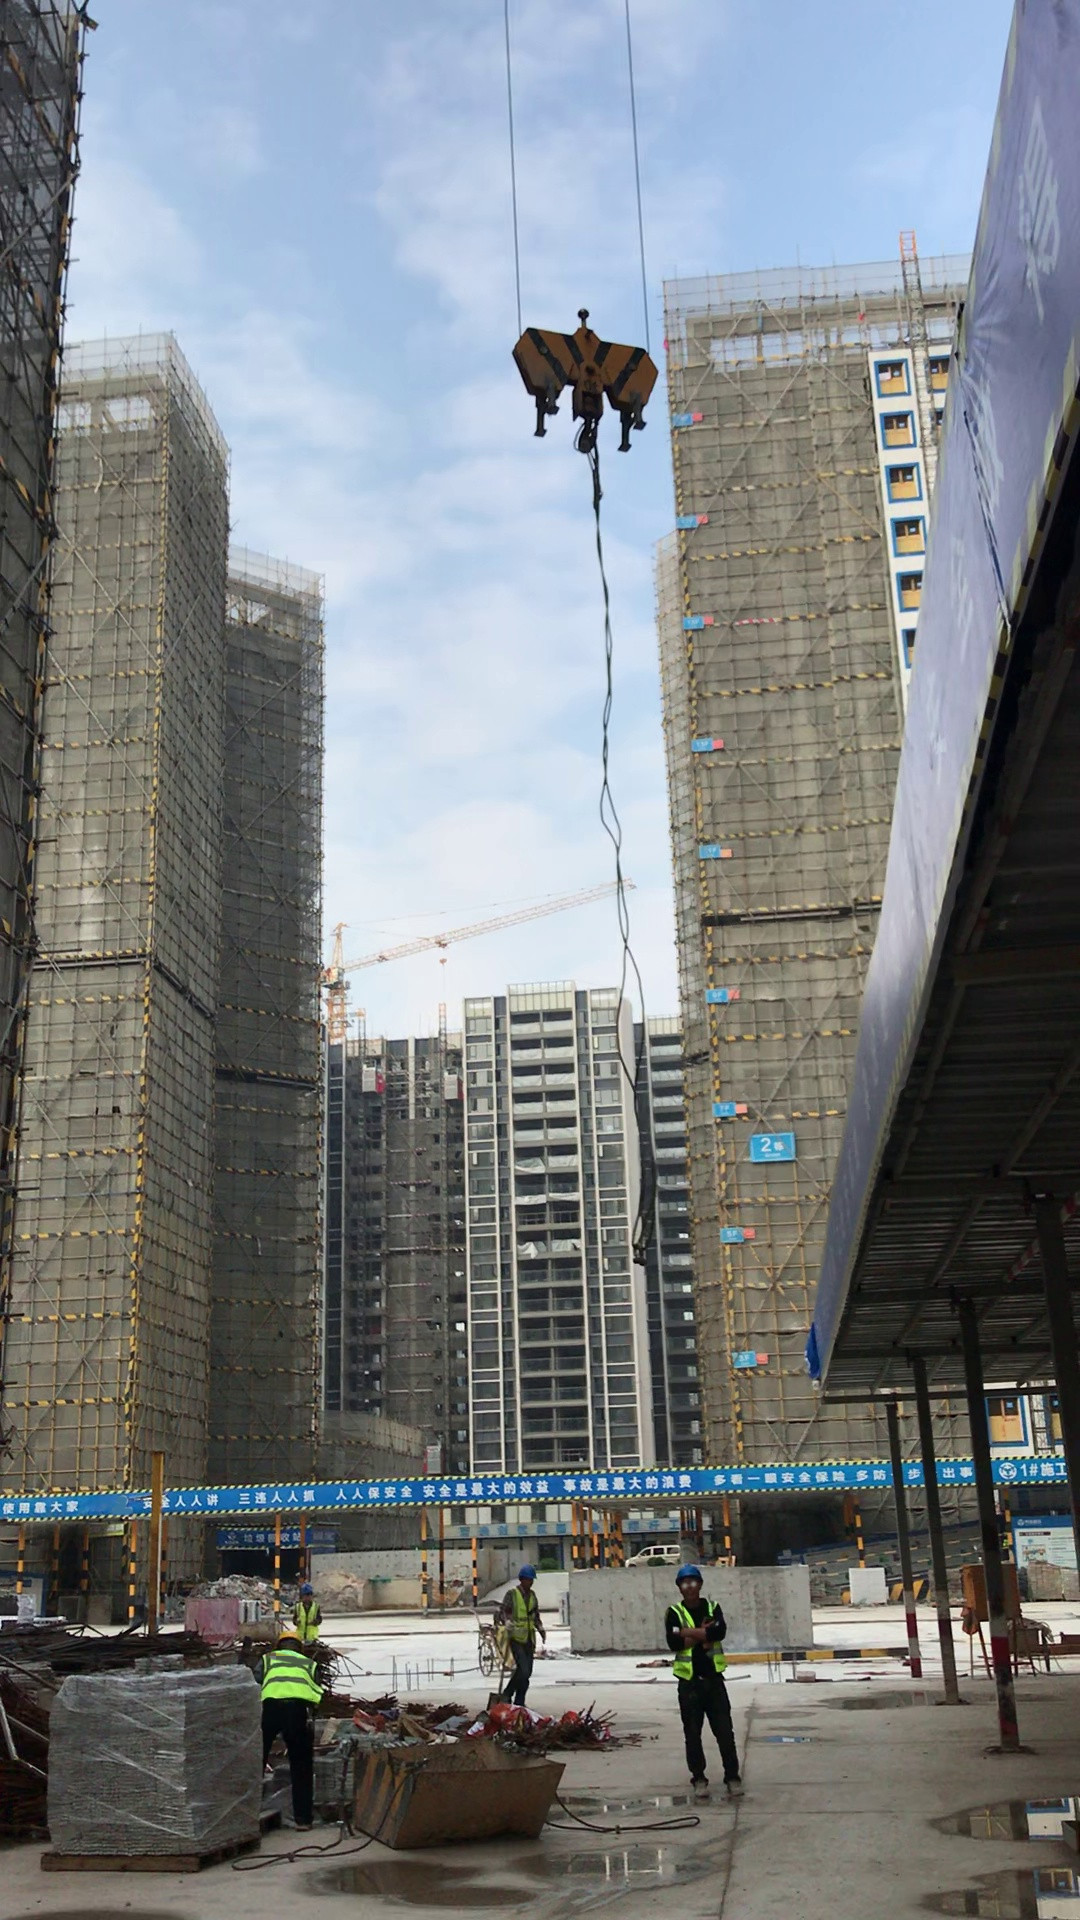brick: (842, 1563, 894, 1606)
ebox: (965, 1556, 1047, 1683)
helmet: (674, 1564, 710, 1585), (274, 1631, 303, 1648), (516, 1562, 540, 1577), (296, 1582, 316, 1596)
hook: (501, 297, 661, 457)
hopper: (343, 1737, 573, 1855)
person: (656, 1562, 758, 1803), (253, 1639, 332, 1826), (486, 1560, 553, 1711), (286, 1580, 327, 1643)
slogan: (7, 1455, 1080, 1527)
vest: (668, 1603, 726, 1678), (270, 1651, 320, 1705), (508, 1588, 540, 1645), (296, 1601, 319, 1635)
